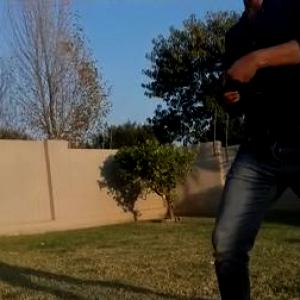follow: (185, 0, 299, 299)
